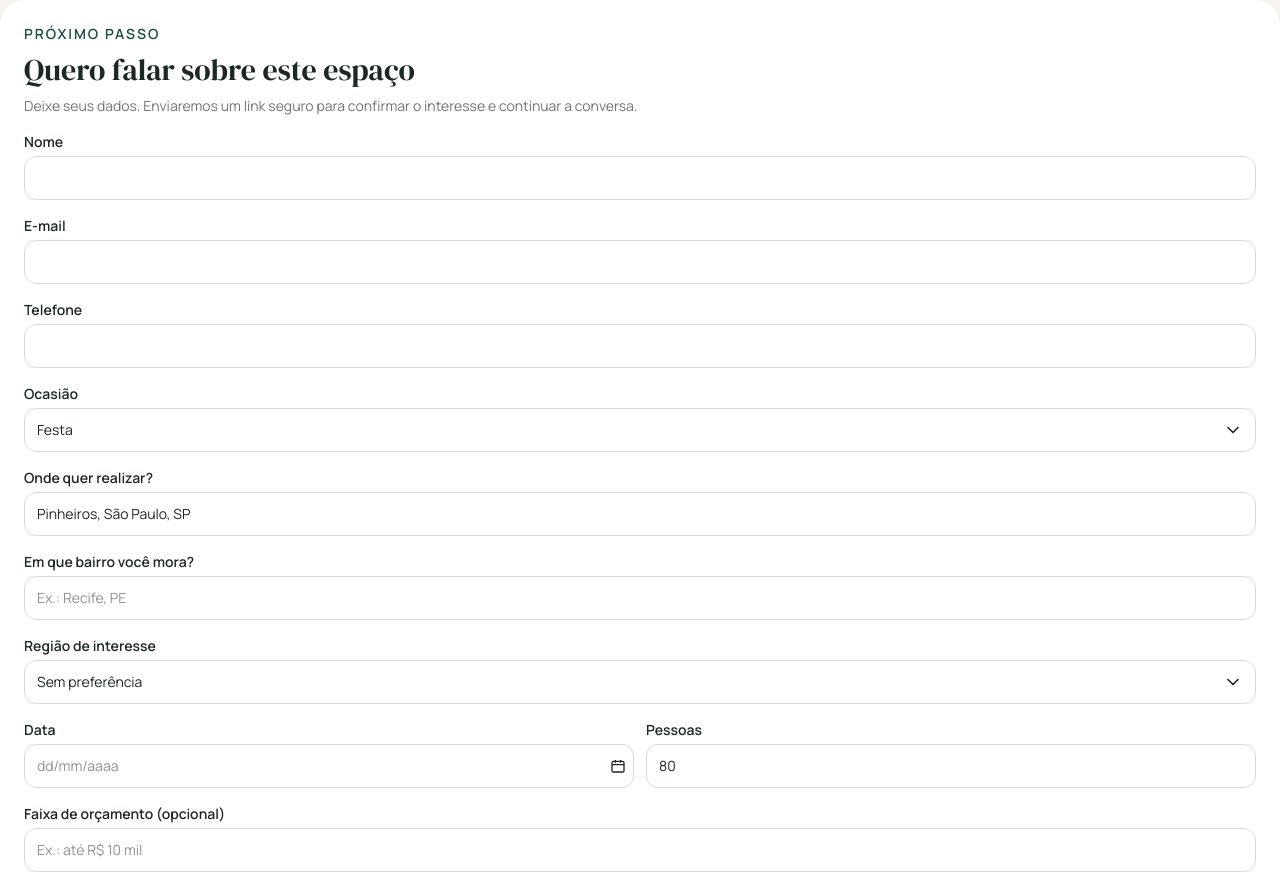
shows a recoverable message when the interest request cannot reach the server
In the field labelled "Nome": (640, 178) top-left (24, 156), bottom-right (1256, 200), type "Ana Souza"
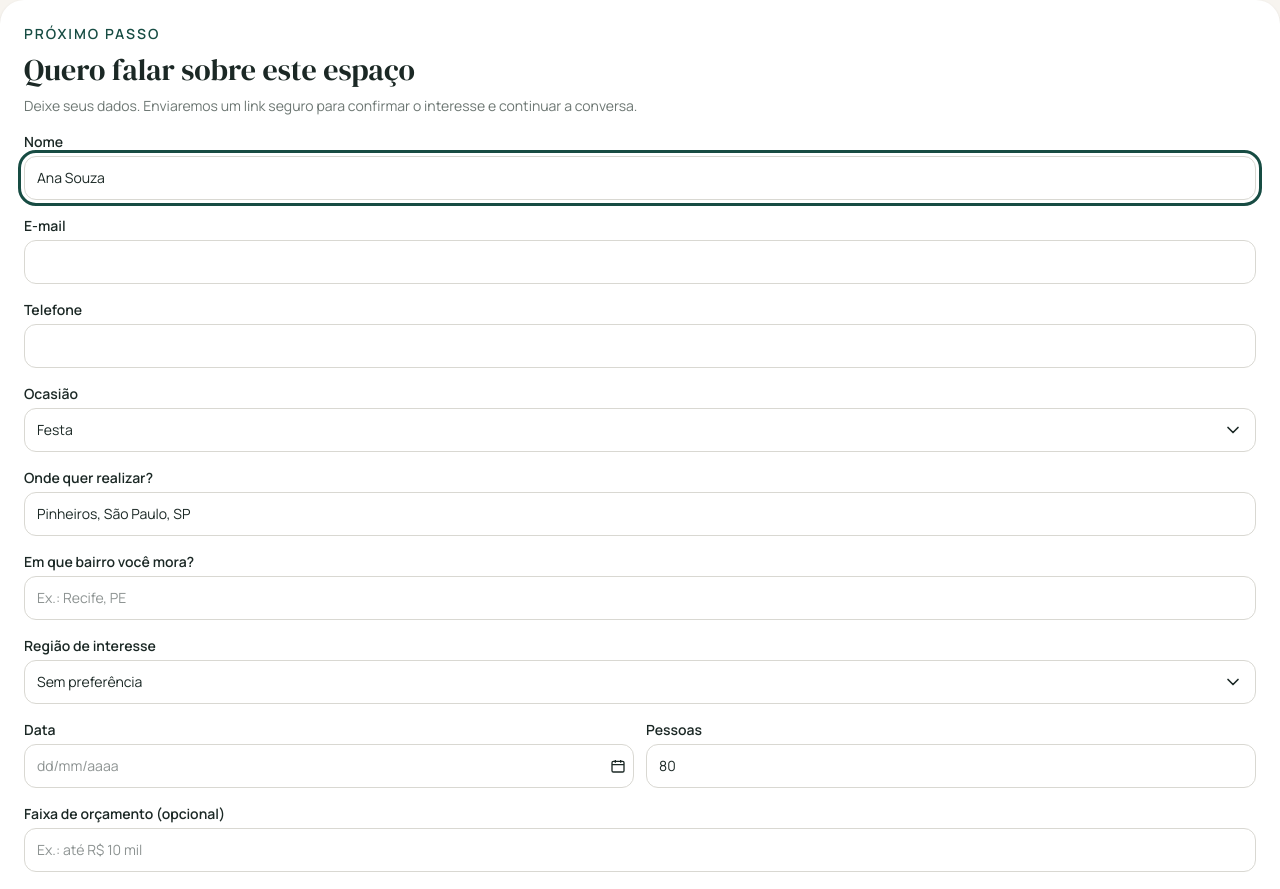
In the field labelled "E-mail": (640, 262) top-left (24, 240), bottom-right (1256, 284), type "ana@example.com"
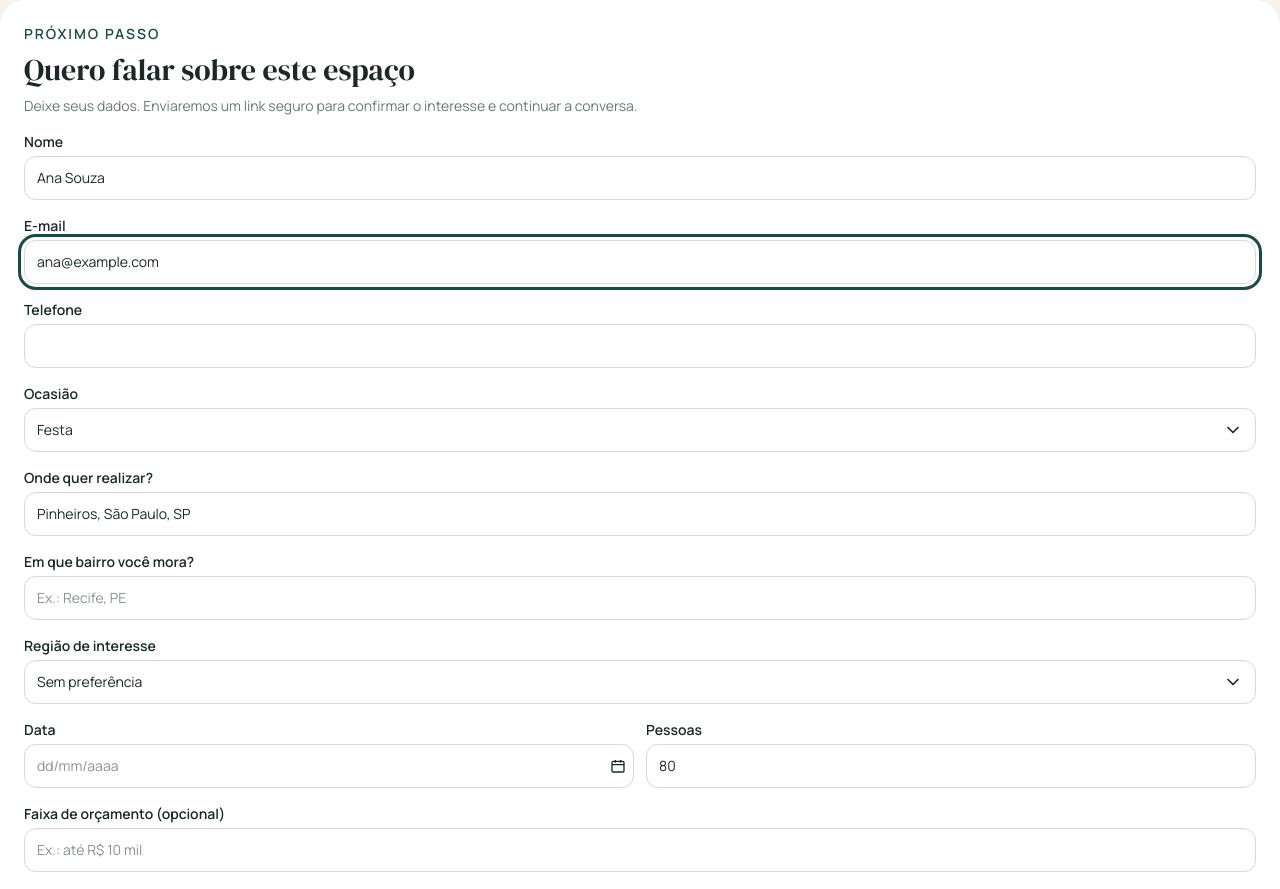
In the field labelled "Telefone": (640, 346) top-left (24, 324), bottom-right (1256, 368), type "11999999999"
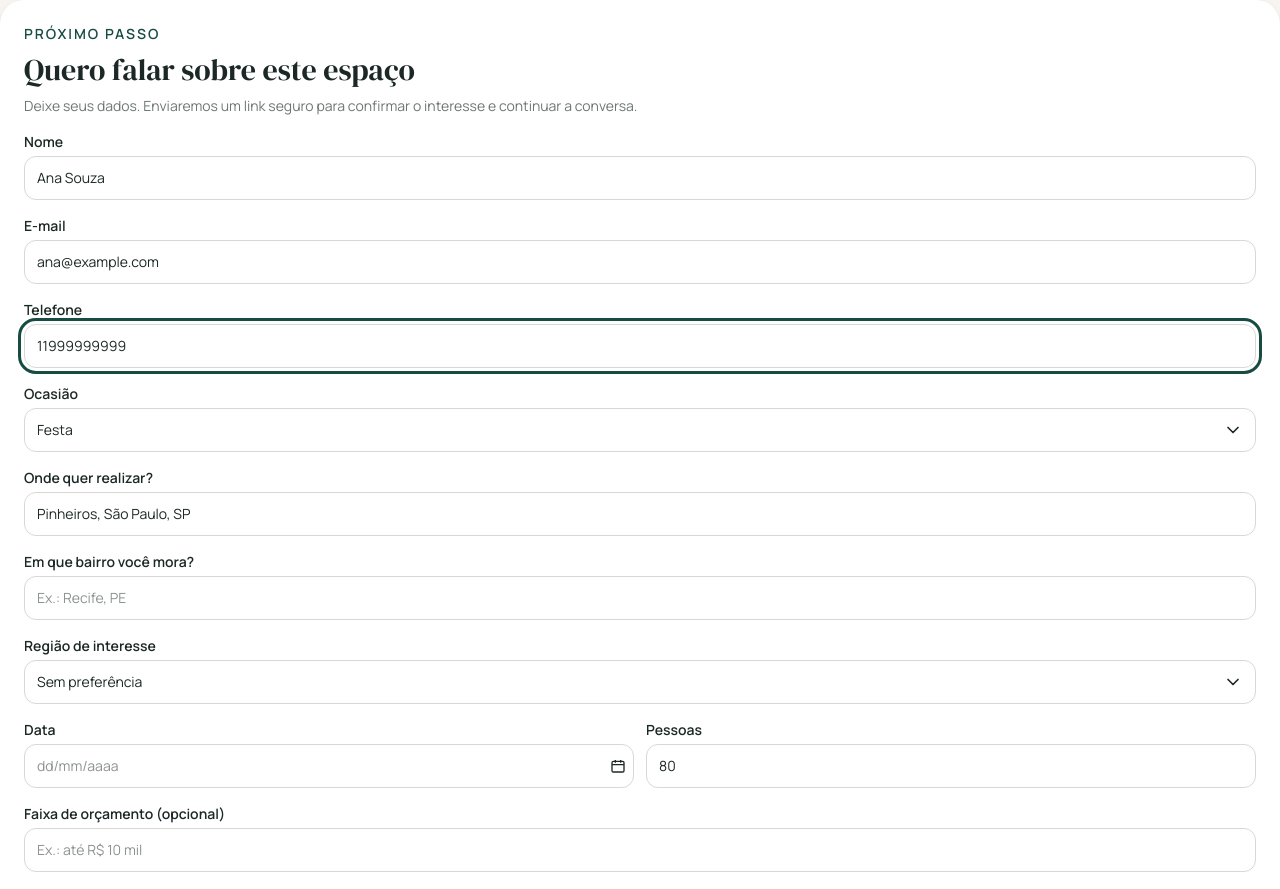
In the field labelled "Em que bairro você mora?": (640, 598) top-left (24, 576), bottom-right (1256, 620), type "Moema"
(page scrolled)
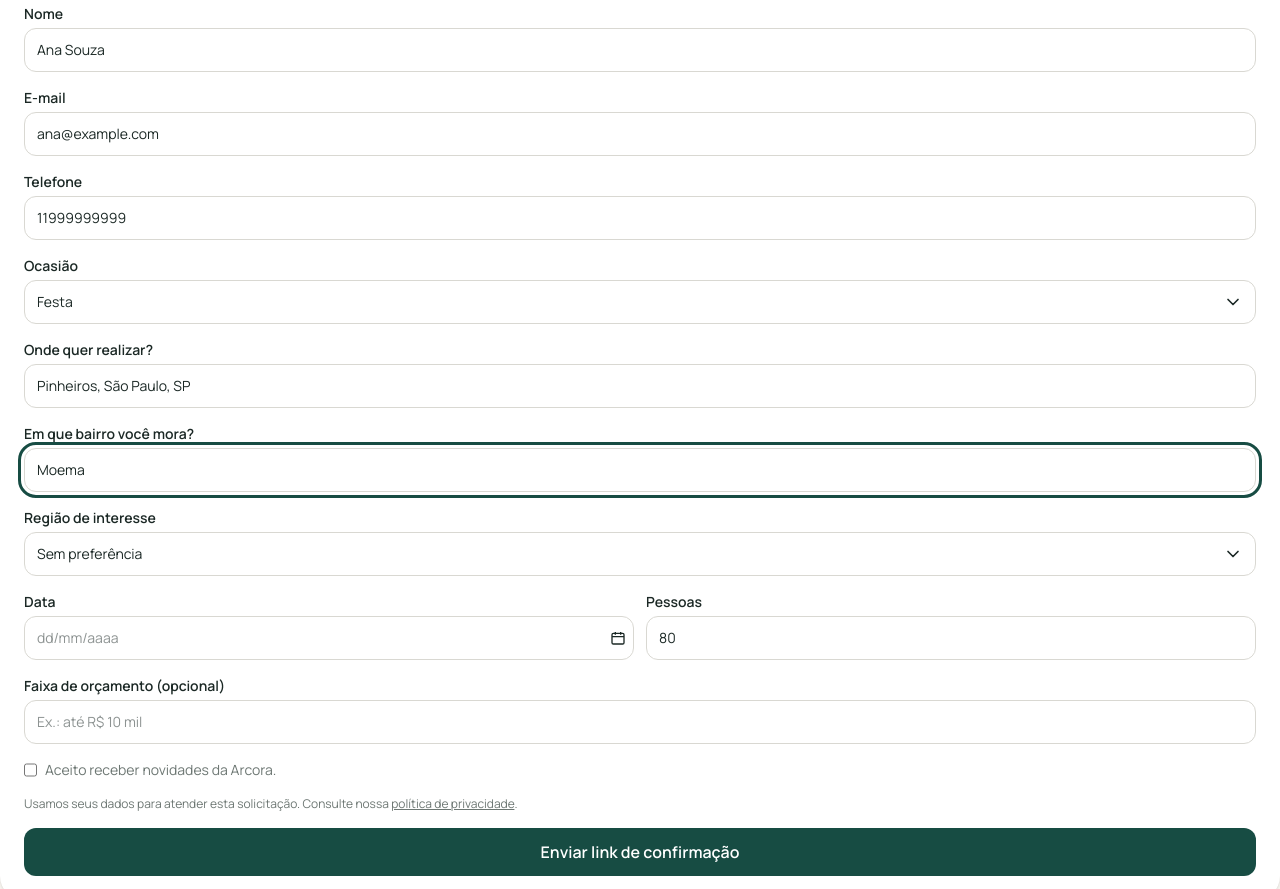
Click the button "Enviar link de confirmação": (640, 852) top-left (24, 828), bottom-right (1256, 876)
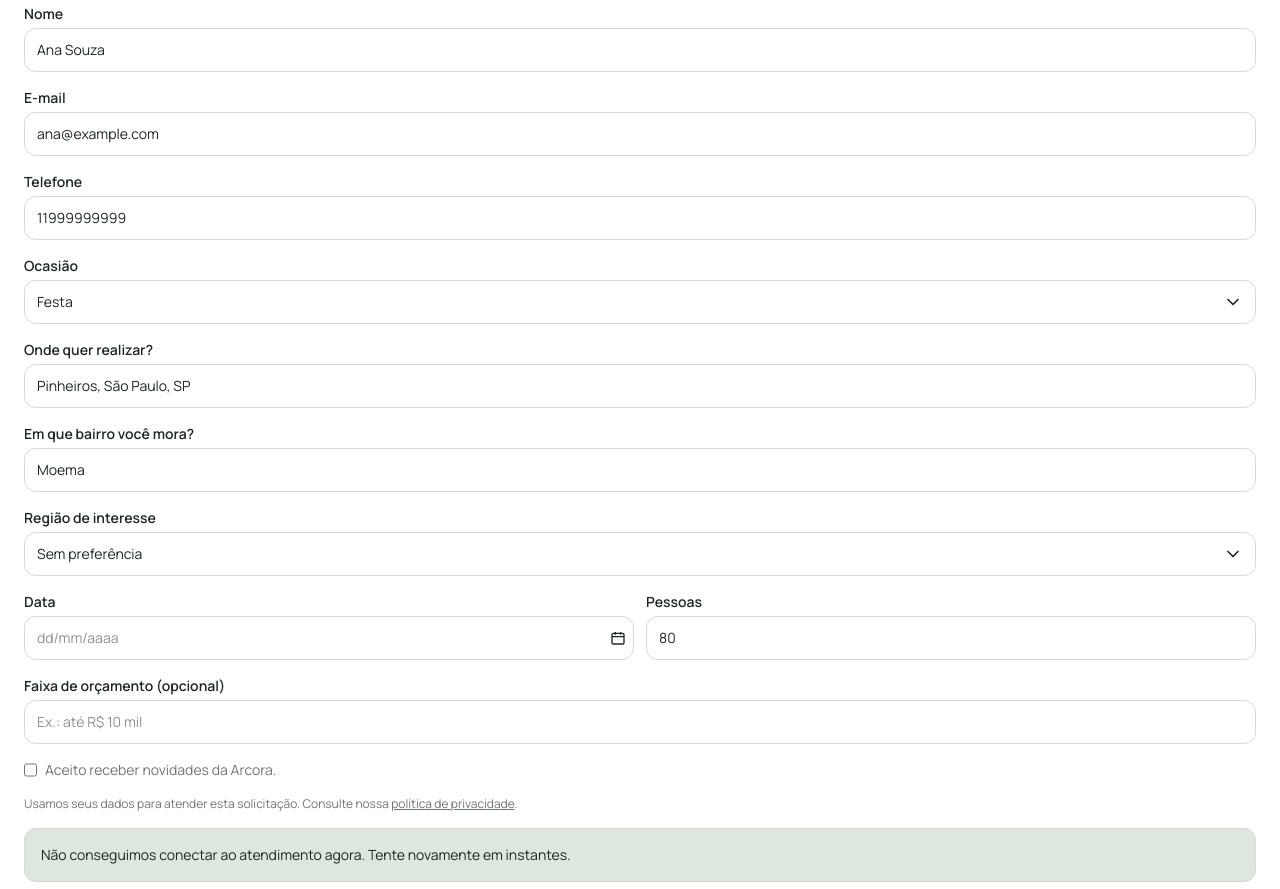
Now the message reads "Não conseguimos conectar ao atendimento agora. Tente novamente em instantes.", box top-left (41, 845), bottom-right (571, 864)
